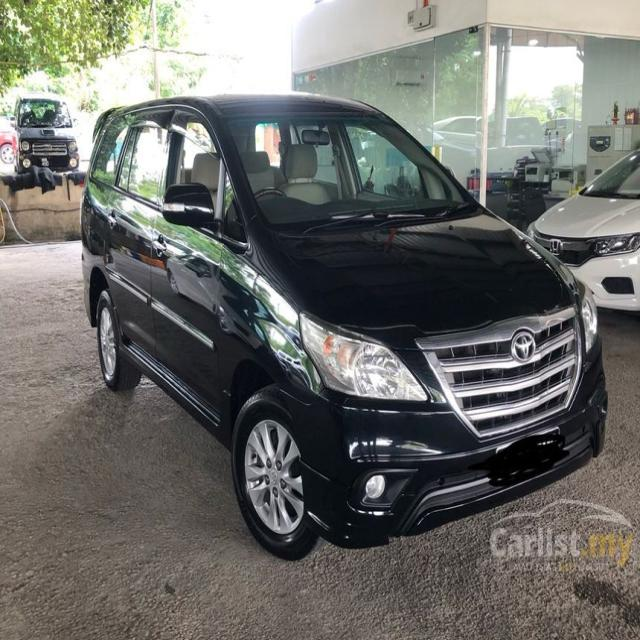light_vehicle: (79, 93, 609, 560)
